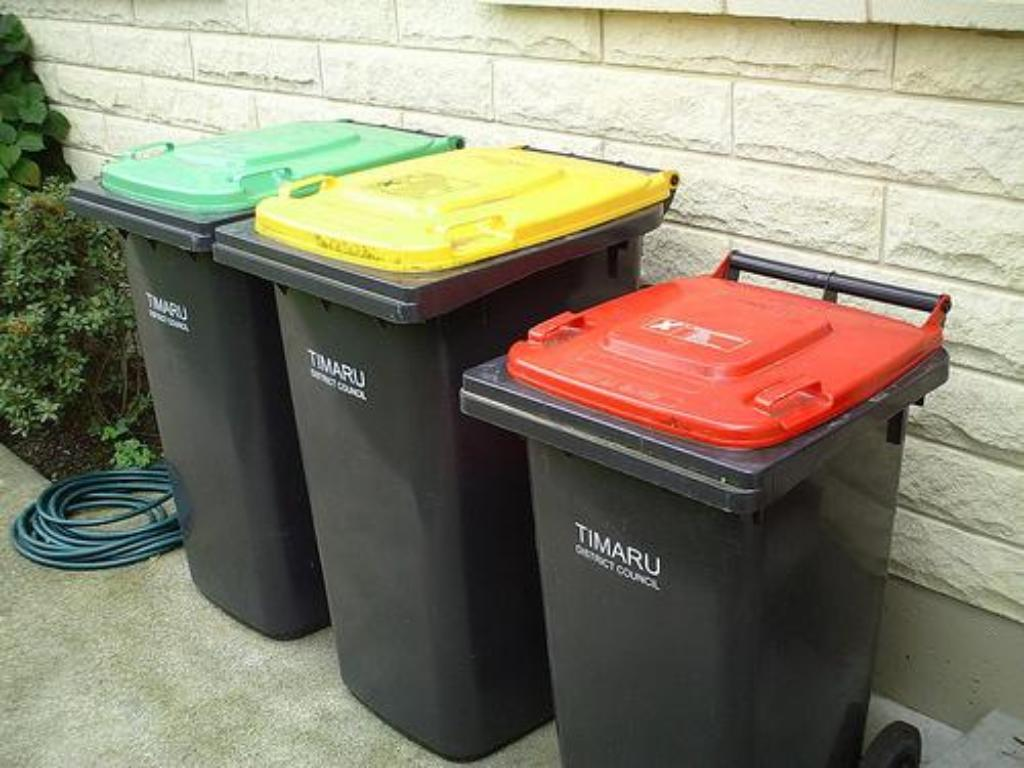dustbin: (85, 98, 647, 758), (465, 244, 944, 768)
